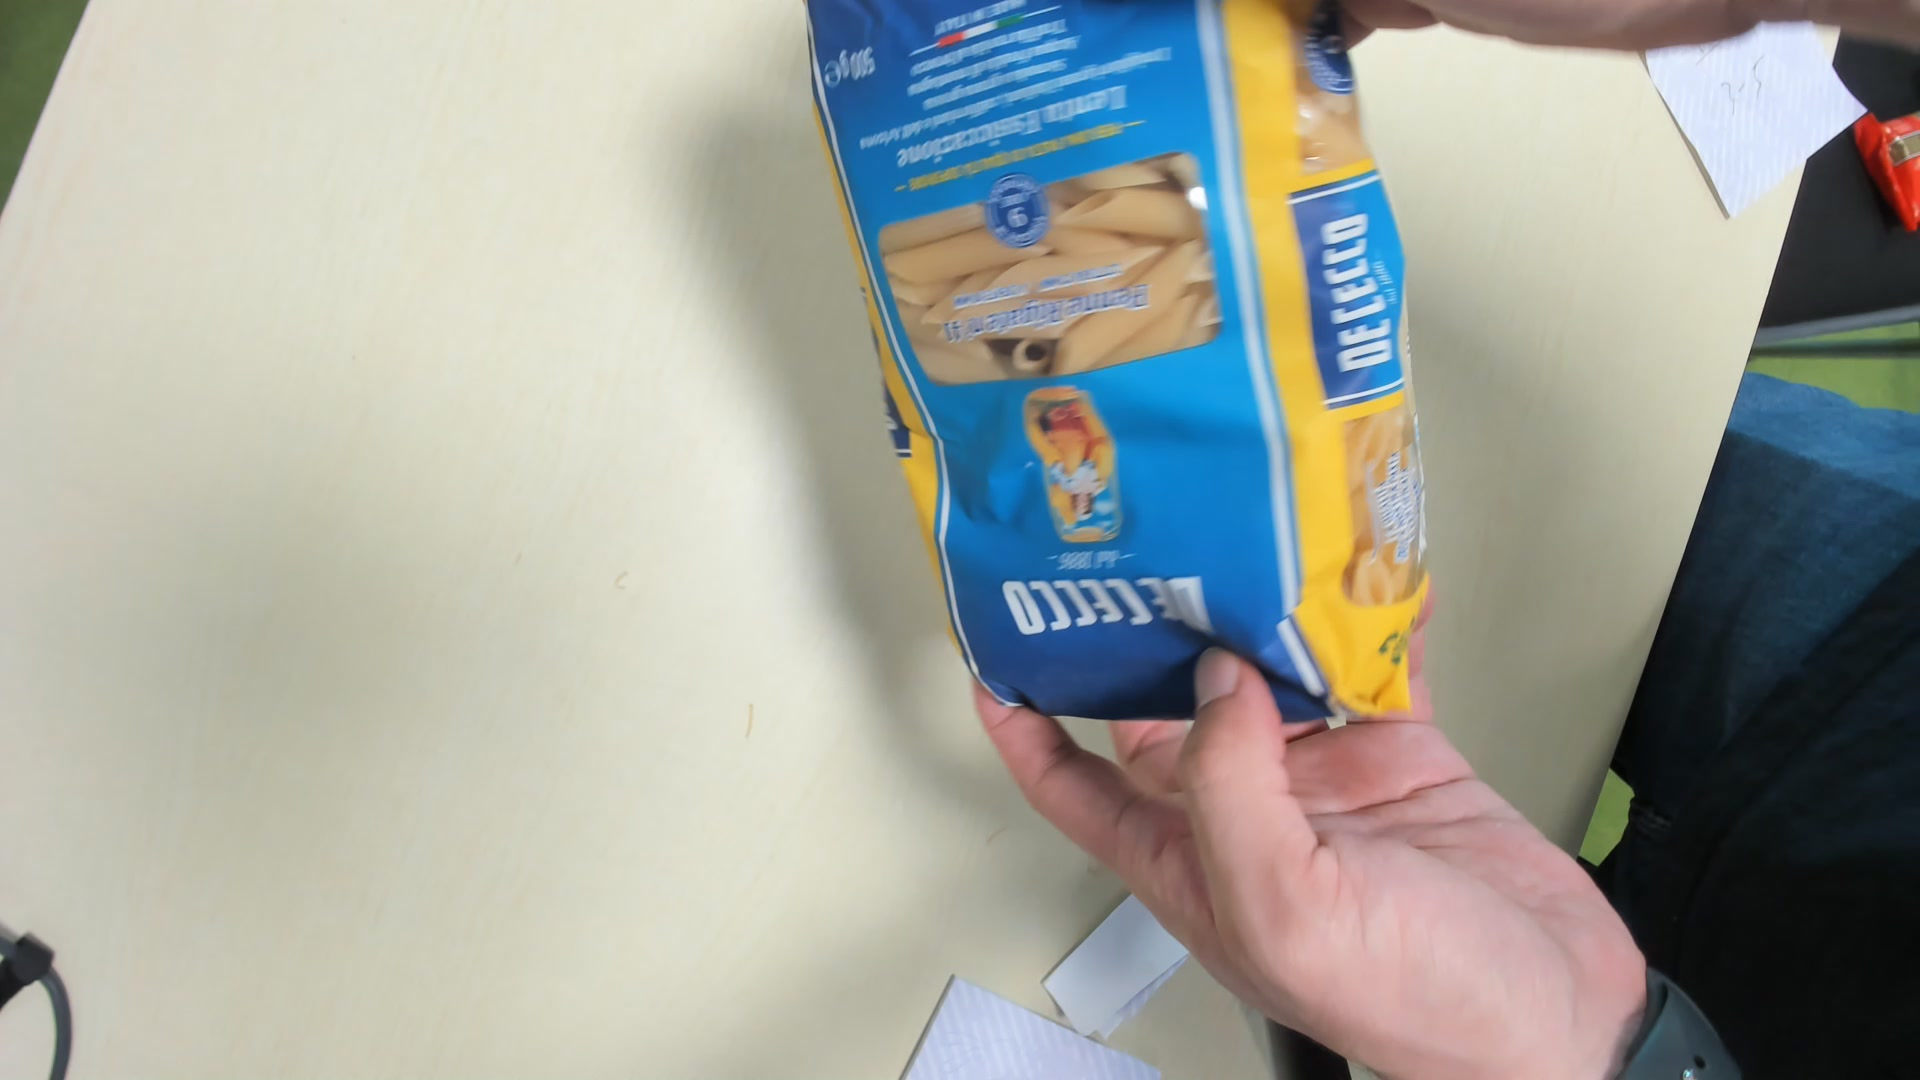Pasta_500-599g_NonHalal_NonHealthy: (800, 1, 1437, 731)
